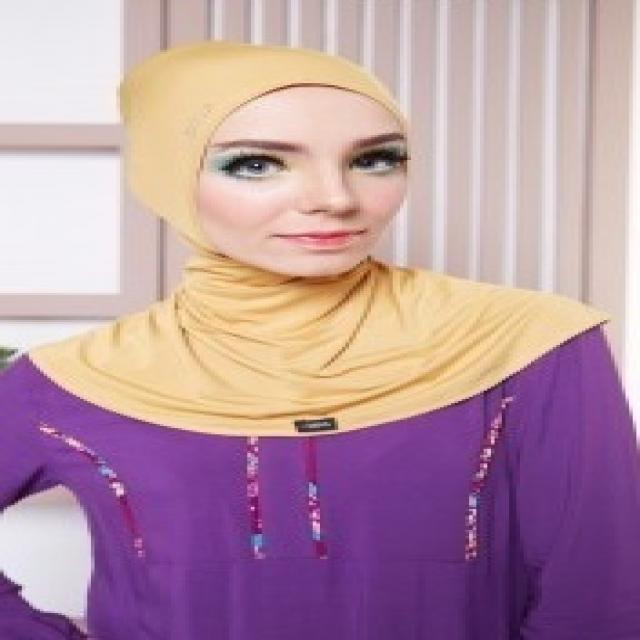head: (115, 38, 433, 295)
